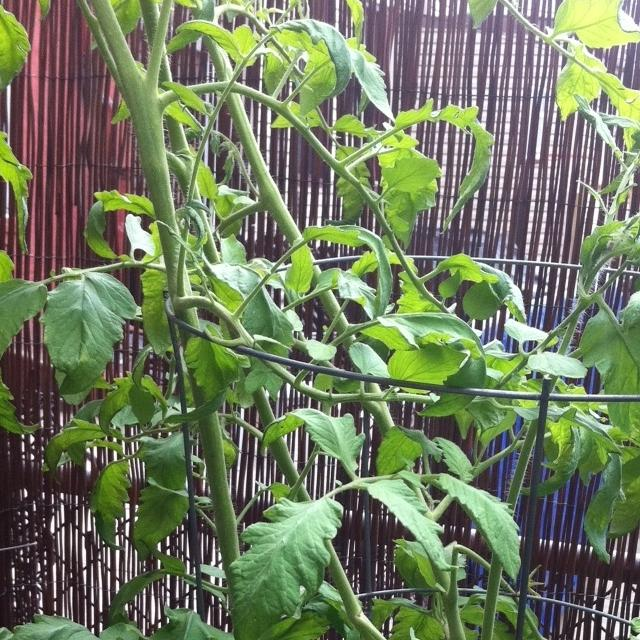Tomato leaf: (224, 483, 356, 638), (41, 270, 148, 431), (420, 465, 524, 585), (594, 312, 640, 468)
